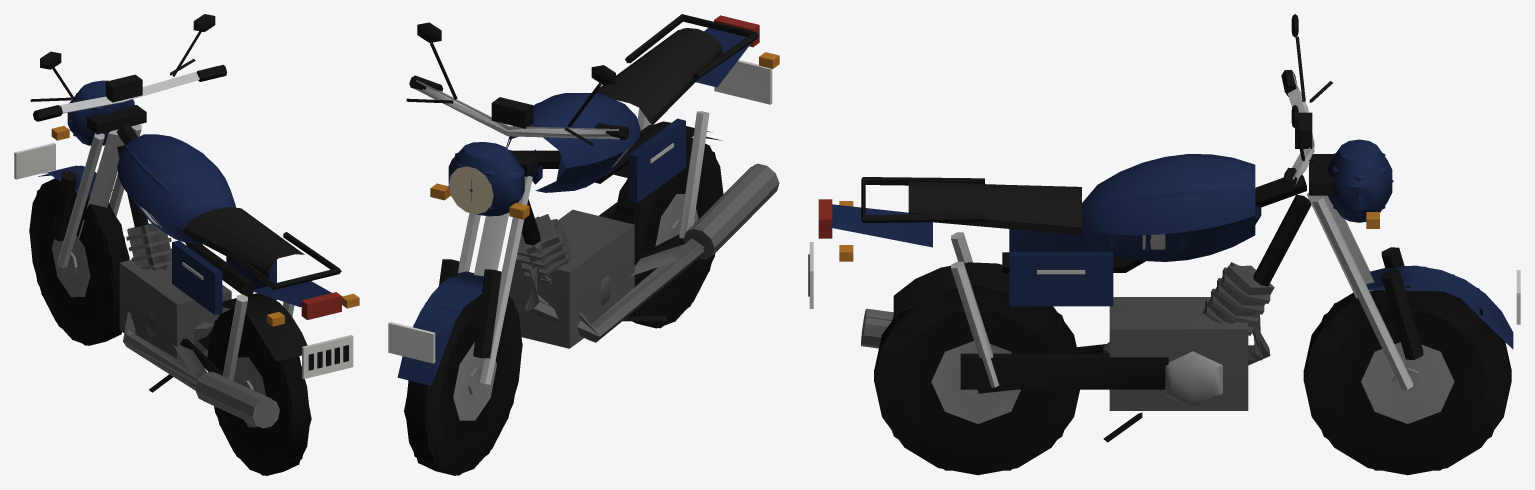
The model's file is motorbike.glb.
3 views of the same model, side by side, from view 1: azimuth 30°, elevation 25°; view 2: azimuth 150°, elevation 25°; view 3: azimuth 270°, elevation 25° (orthographic). The views are drawn at different scales.
Parts seen in each view (by area): view 1: near, distant, far; view 2: near, far, distant; view 3: near, far, distant.
Part boxes in pixels (<box>): near: <box>14,14,359,475</box>; distant: <box>29,65,311,469</box>; far: <box>29,93,336,475</box>; near: <box>388,14,779,475</box>; far: <box>413,15,753,475</box>; distant: <box>404,28,755,468</box>; near: <box>808,14,1520,474</box>; far: <box>830,153,1512,470</box>; distant: <box>861,73,1512,475</box>.
Bounding box in the file's own units: 0.764 × 1.3 × 2.06.
